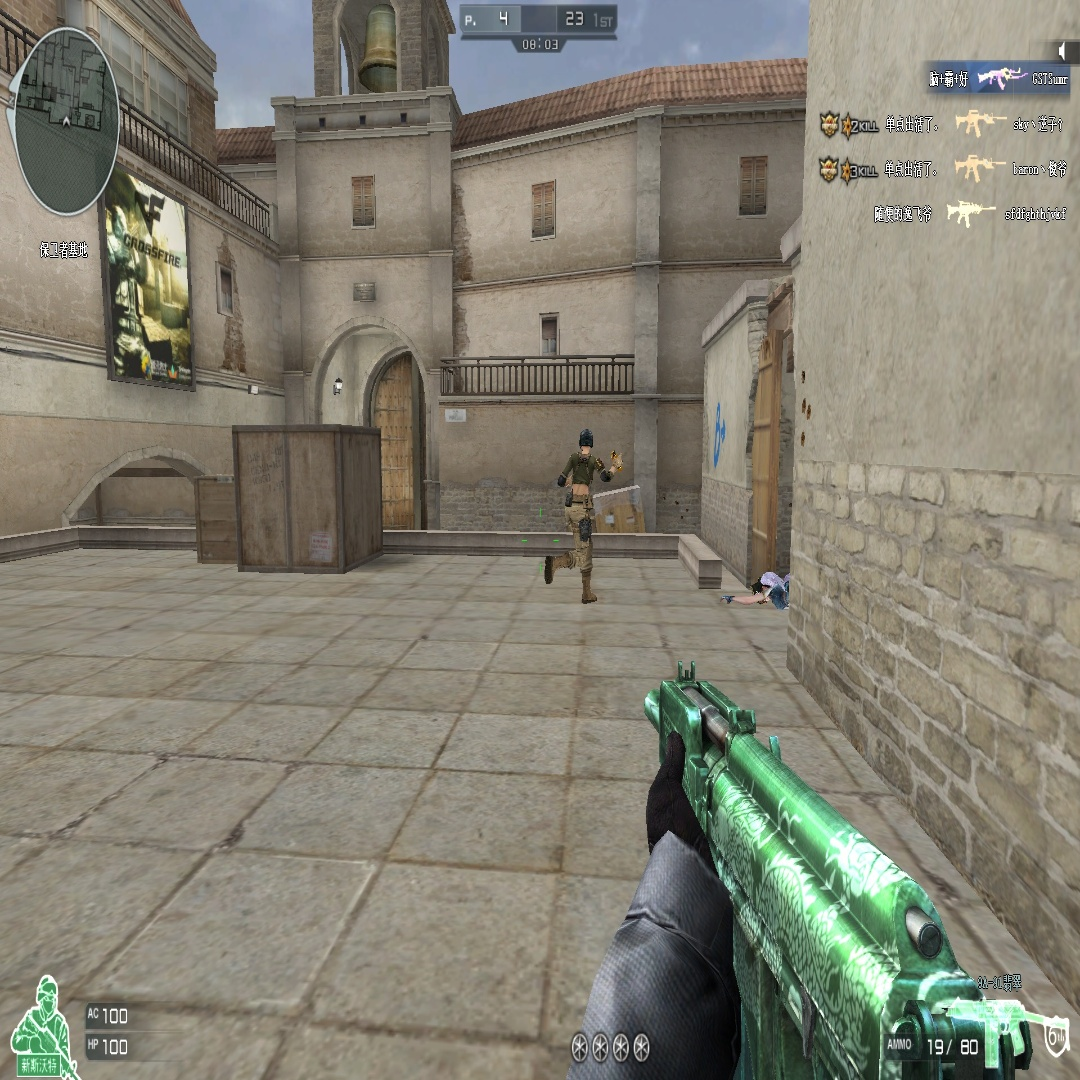head: (577, 426, 598, 455)
p: (555, 426, 620, 603)
